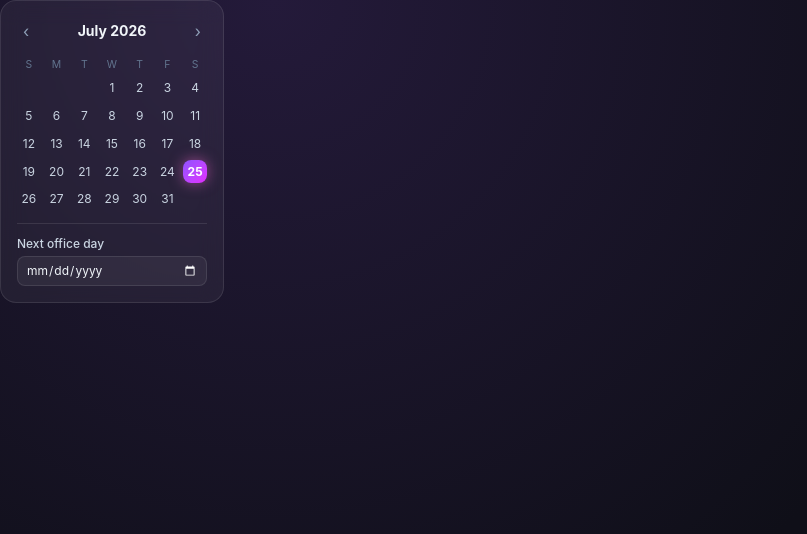
Test: MiniCalendar › month navigation › moves forward and backward a month at a time, independent of "today"
What coordinates should you click on to do the following:
click the button named "Next month"
I would click on:
 (198, 31)
Its box is 189,17 -> 207,45.
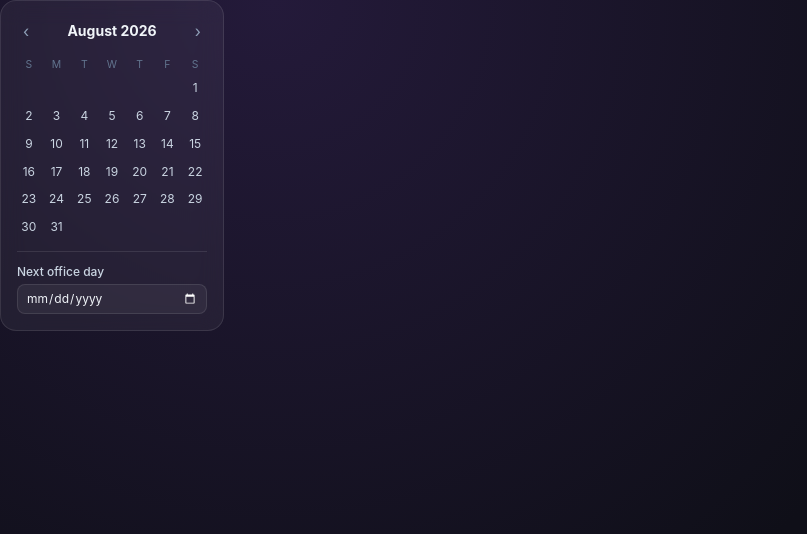
Now the text "August 2026" is shown, box 67,21 -> 157,41
What coordinates should you click on to do the following:
click the button named "Previous month"
I would click on:
 (26, 31)
Its box is 17,17 -> 35,45.
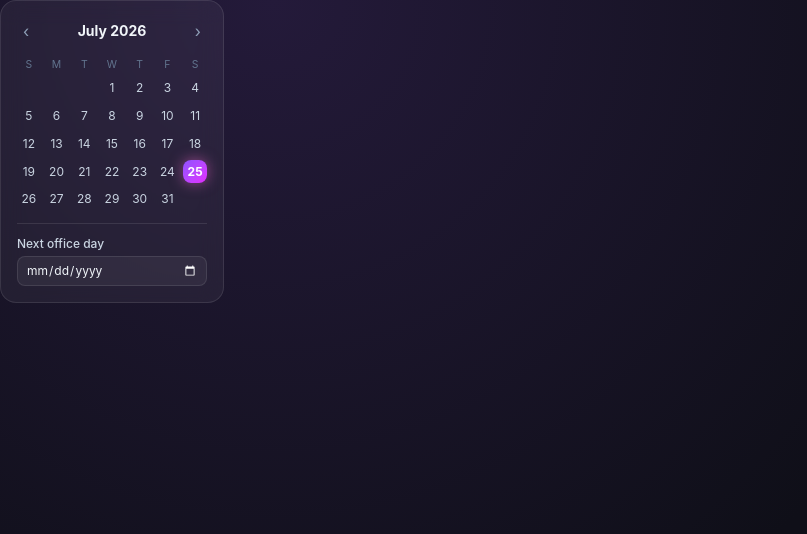
What coordinates should you click on to do the following:
click the button named "Previous month"
I would click on:
 (26, 31)
Its box is 17,17 -> 35,45.
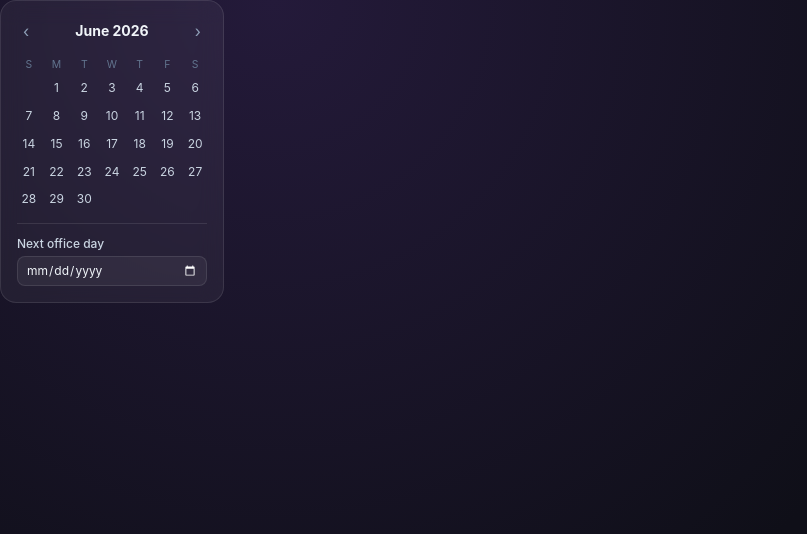
Now the text "June 2026" is shown, box 75,21 -> 149,41
